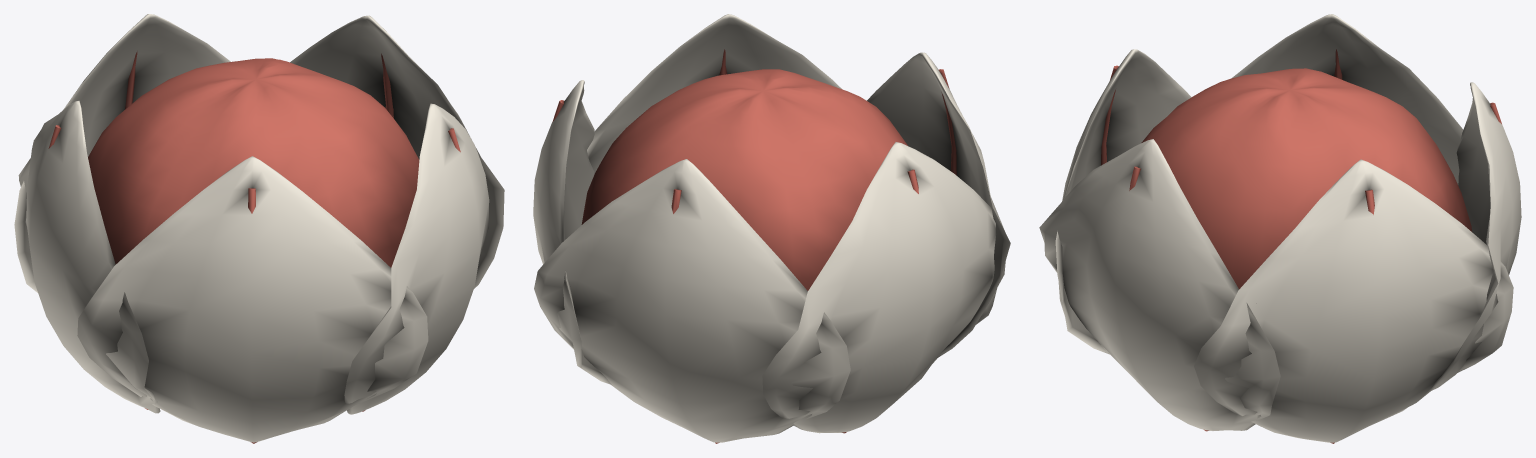
File: food_cabbage.glb
3 views of the same model, side by side, from view 1: azimuth 30°, elevation 25°; view 2: azimuth 150°, elevation 25°; view 3: azimuth 270°, elevation 25° (orthographic).
Visible parts, largest first — view 1: PART; view 2: PART; view 3: PART.
Boxes of the visible parts, x1,y1,x2,y2 form: PART: [14, 14, 504, 443]; PART: [533, 14, 1010, 443]; PART: [1039, 14, 1521, 443].
Bounding box in the file's own units: 0.163 × 0.1196 × 0.1642.
